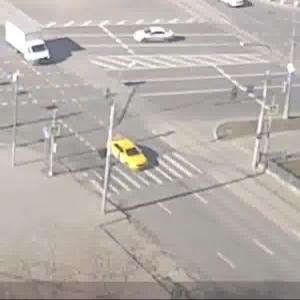car: (7, 24, 54, 65), (108, 139, 153, 171), (133, 26, 176, 44)
